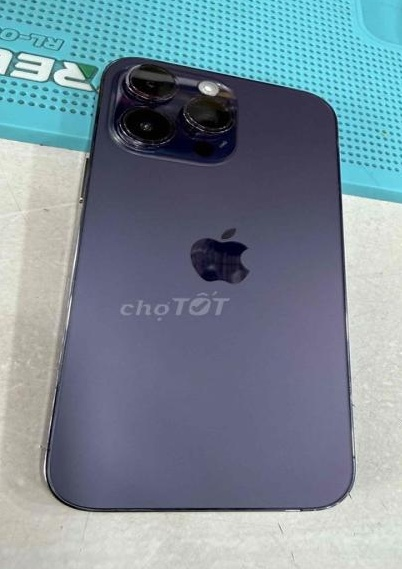scratch: (148, 90, 179, 105)
